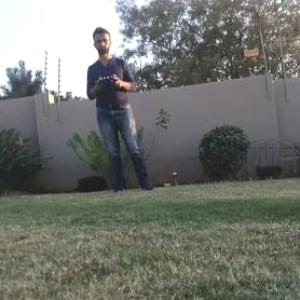follow: (84, 20, 162, 195)
